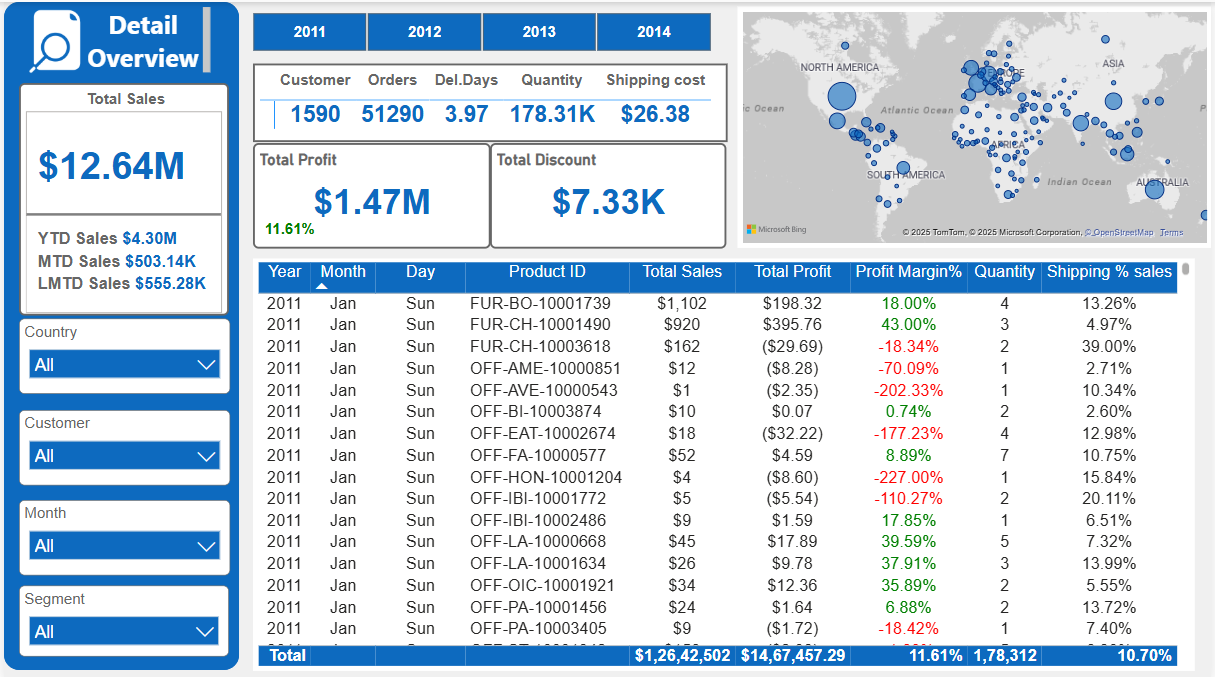

Layout of this report page (visuals, bound fields, positions):
{"tool":"powerbi","page":{"name":"Detail Overview","canvas":[1280,720],"ordinal":3},"visuals":[{"type":"shape","box":[0,0,249.4,708.7],"z":0},{"type":"cardVisual","title":"Total Sales","fields":{"Data":["Measures Table.Total Sales"]},"box":[15.6,86.5,222.5,246.6],"z":1000},{"type":"pivotTable","fields":{"Values":["Measures Table.Total Customer","Measures Table.Total Order","Measures Table.Avg Del.Days","Measures Table.Total Quantity","Measures Table.Avg shipping cost"]},"box":[263.6,65.2,503.1,83.6],"z":2000},{"type":"card","title":"Total Profit","fields":{"Values":["Measures Table.Total Profit"]},"box":[263.6,148.8,252.3,112],"z":3000},{"type":"card","fields":{"Values":["Measures Table.Profit Margin%"]},"box":[262.2,223.9,80.8,34],"z":4000},{"type":"card","title":"Total Discount","fields":{"Values":["Measures Table.Total Discount"]},"box":[515.9,148.8,250.9,112],"z":5000},{"type":"slicer","fields":{"Values":["Calendar Table.Year"]},"box":[238.1,4.3,534.3,53.9],"z":6000},{"type":"slicer","title":"Month","fields":{"Values":["Calendar Table.Month"]},"box":[16,528,224,80],"z":7000},{"type":"slicer","title":"Country","fields":{"Values":["Power BI Assignment - Power BI Dashboard (1).Country"]},"box":[16,336,224,80],"z":8000},{"type":"slicer","title":"Customer ","fields":{"Values":["Power BI Assignment - Power BI Dashboard (1).Customer Name"]},"box":[16,432,224,80],"z":9000},{"type":"slicer","title":"Segment","fields":{"Values":["Power BI Assignment - Power BI Dashboard (1).Segment"]},"box":[15.6,618,222.5,75.1],"z":10000},{"type":"map","fields":{"Category":["Power BI Assignment - Power BI Dashboard (1).Country"],"Size":["Sum(Power BI Assignment - Power BI Dashboard (1).Sales)"]},"box":[777.1,4.3,502.9,255.7],"z":11000},{"type":"image","box":[16,0,80,80],"z":12000},{"type":"tableEx","fields":{"Values":["Calendar Table.Year","Calendar Table.Month","Calendar Table.Week Day","Power BI Assignment - Power BI Dashboard (1).Product ID","Measures Table.Total Sales","Measures Table.Total Profit","Measures Table.Profit Margin%","Measures Table.Total Quantity","Measures Table.Shipping % sales"]},"box":[264.3,271.4,998.6,437.1],"z":13000},{"type":"textbox","box":[80,0,144,80],"z":14000}]}

Visuals, with their boxes in screenshot pixels (x1, y1, x2, y2), scaled from the page's 1280x720 canvas onto the 1215x677 screenshot:
shape: pyautogui.locateOnScreen(0, 0, 237, 666)
"Total Sales" cardVisual: pyautogui.locateOnScreen(15, 81, 226, 313)
pivotTable - Measures Table.Total Customer x Measures Table.Total Order: pyautogui.locateOnScreen(250, 61, 728, 140)
"Total Profit" card: pyautogui.locateOnScreen(250, 140, 490, 245)
card - Measures Table.Profit Margin%: pyautogui.locateOnScreen(249, 211, 326, 242)
"Total Discount" card: pyautogui.locateOnScreen(490, 140, 728, 245)
slicer - Calendar Table.Year: pyautogui.locateOnScreen(226, 4, 733, 55)
"Month" slicer: pyautogui.locateOnScreen(15, 496, 228, 572)
"Country" slicer: pyautogui.locateOnScreen(15, 316, 228, 391)
"Customer " slicer: pyautogui.locateOnScreen(15, 406, 228, 481)
"Segment" slicer: pyautogui.locateOnScreen(15, 581, 226, 652)
map - Power BI Assignment - Power BI Dashboard (1).Country x Sum(Power BI Assignment - Power BI Dashboard (1).Sales): pyautogui.locateOnScreen(738, 4, 1214, 244)
image: pyautogui.locateOnScreen(15, 0, 91, 75)
tableEx - Calendar Table.Year x Calendar Table.Month: pyautogui.locateOnScreen(251, 255, 1199, 666)
textbox: pyautogui.locateOnScreen(76, 0, 213, 75)
